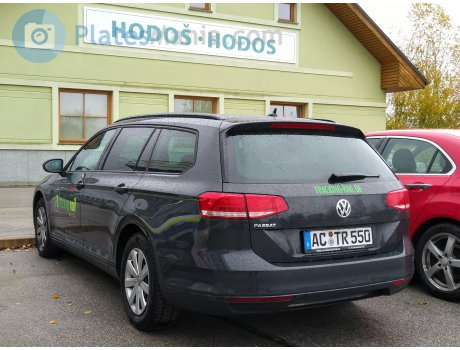License Plates: (310, 229, 370, 246)
